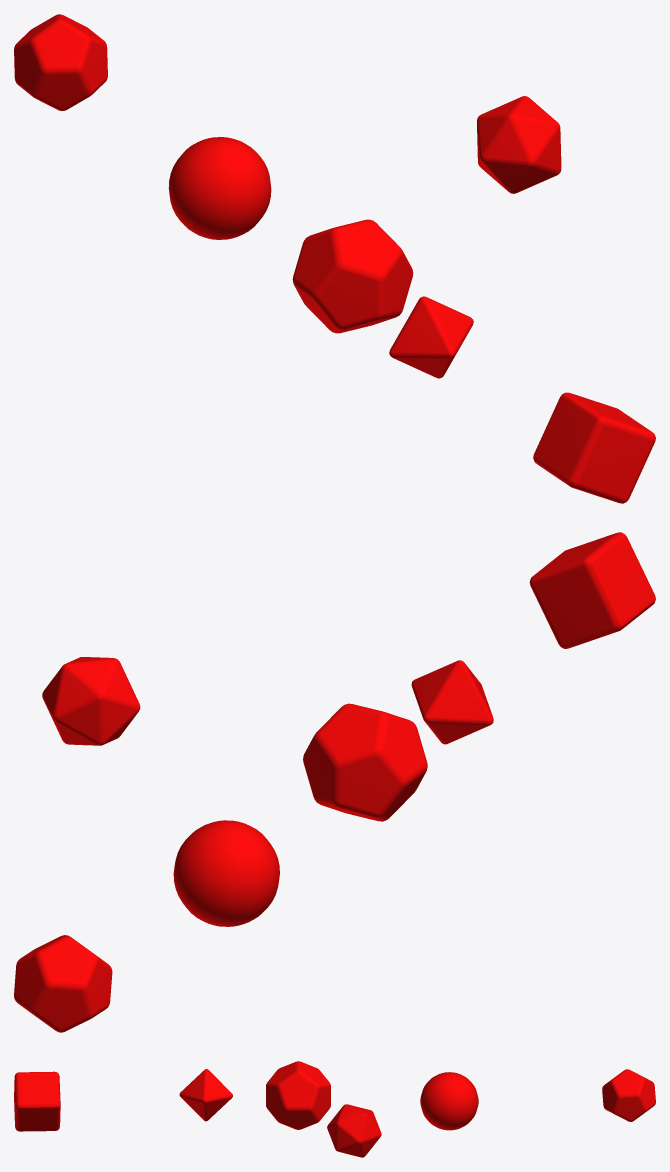
File: sistema.gltf
3 renders of one model, top to bottom at view 1: azimuth 30°, elevation 25°; view 2: azimuth 150°, elevation 25°; view 3: azimuth 270°, elevation 25°, orthographic. The views are drawn at different scales.
Parts seen in each view (by area): view 1: dodecaedro_centro2, cubo, esfera, dodecaedro, icosaedro, octaedro; view 2: dodecaedro_centro2, cubo, esfera, dodecaedro, icosaedro, octaedro; view 3: dodecaedro_centro2, cubo, esfera, icosaedro, dodecaedro, octaedro.
Part boxes in pixels (x1=…): dodecaedro_centro2: x1=292, y1=219, x2=413, y2=333; cubo: x1=533, y1=392, x2=655, y2=503; esfera: x1=168, y1=137, x2=271, y2=239; dodecaedro: x1=14, y1=14, x2=107, y2=110; icosaedro: x1=477, y1=96, x2=561, y2=193; octaedro: x1=389, y1=296, x2=473, y2=378; dodecaedro_centro2: x1=303, y1=703, x2=427, y2=821; cubo: x1=529, y1=532, x2=655, y2=648; esfera: x1=173, y1=820, x2=279, y2=926; dodecaedro: x1=14, y1=935, x2=112, y2=1032; icosaedro: x1=42, y1=657, x2=140, y2=745; octaedro: x1=411, y1=660, x2=493, y2=744; dodecaedro_centro2: x1=266, y1=1061, x2=330, y2=1129; cubo: x1=14, y1=1071, x2=60, y2=1131; esfera: x1=420, y1=1072, x2=478, y2=1130; icosaedro: x1=327, y1=1104, x2=381, y2=1157; dodecaedro: x1=602, y1=1069, x2=655, y2=1121; octaedro: x1=179, y1=1069, x2=232, y2=1121.
Bounding box in the file's own units: 0.3442 × 0.1485 × 1.1.
